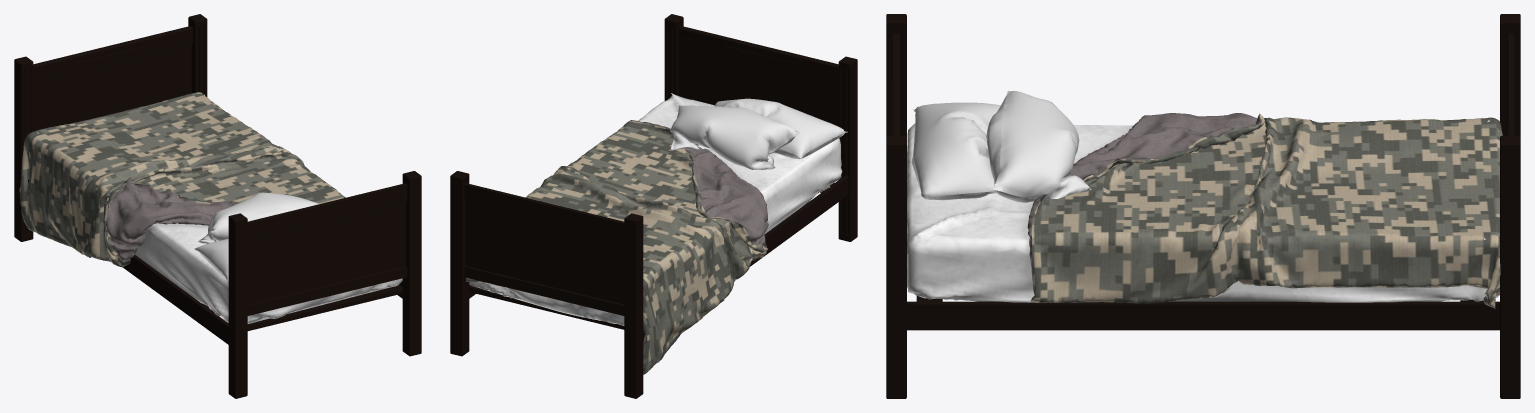
File: GMTK2023-Bed.fbx
The picture shows the model from 3 angles, left to right: view 1: azimuth 30°, elevation 25°; view 2: azimuth 150°, elevation 25°; view 3: azimuth 270°, elevation 25°; orthographic projection. The views are drawn at different scales.
Visible parts, largest first — view 1: pillows; view 2: pillows; view 3: pillows.
Part boxes in pixels (<box>): pillows: <box>14,14,421,398</box>; pillows: <box>450,14,857,398</box>; pillows: <box>886,14,1520,398</box>.
Size of the model in its own units: 111 by 90.97 by 205.
